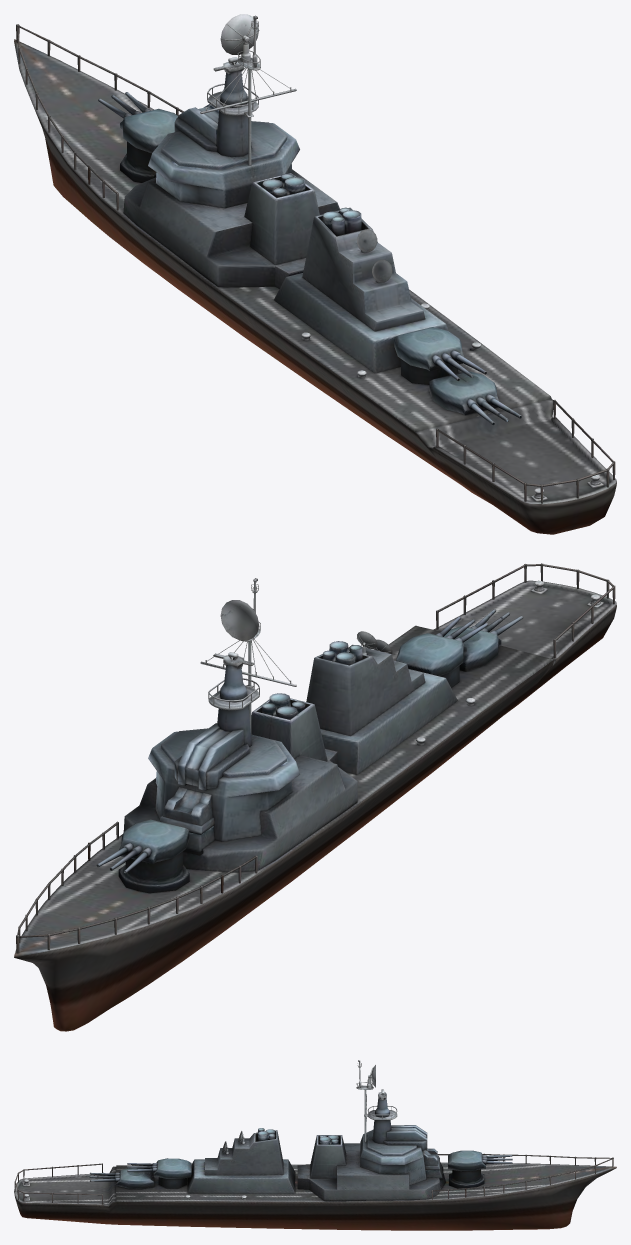
The model's file is Destroyer.glb.
3 views of the same model, one above another, from view 1: azimuth 30°, elevation 25°; view 2: azimuth 150°, elevation 25°; view 3: azimuth 270°, elevation 25° (orthographic). The views are drawn at different scales.
Visible parts, largest first — view 1: 1_low; view 2: 1_low; view 3: 1_low.
Part boxes in pixels (bbox=[...]): 1_low: bbox=[14, 14, 616, 534]; 1_low: bbox=[14, 563, 616, 1031]; 1_low: bbox=[14, 1060, 616, 1230].
Bounding box in the file's own units: 6.27 × 13.01 × 42.56.
2 materials, 2 textured.
